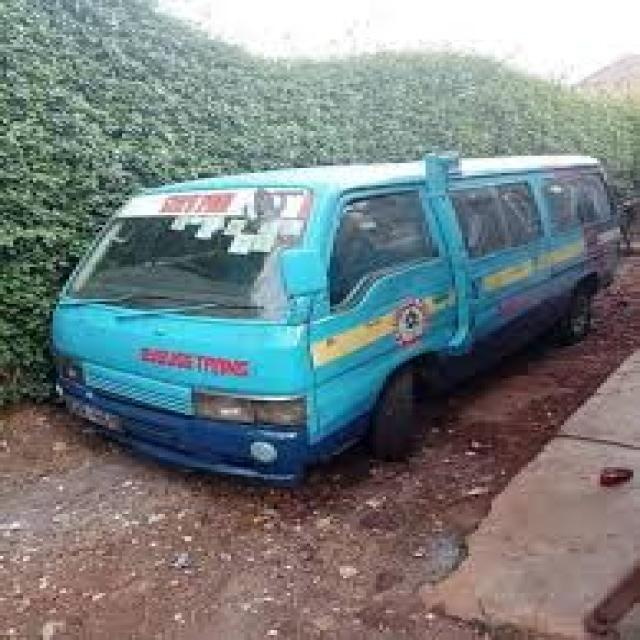matatu: (35, 120, 631, 521)
